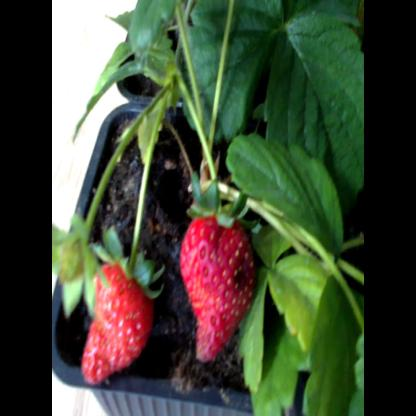ripe: (183, 195, 259, 364), (84, 245, 150, 379)
